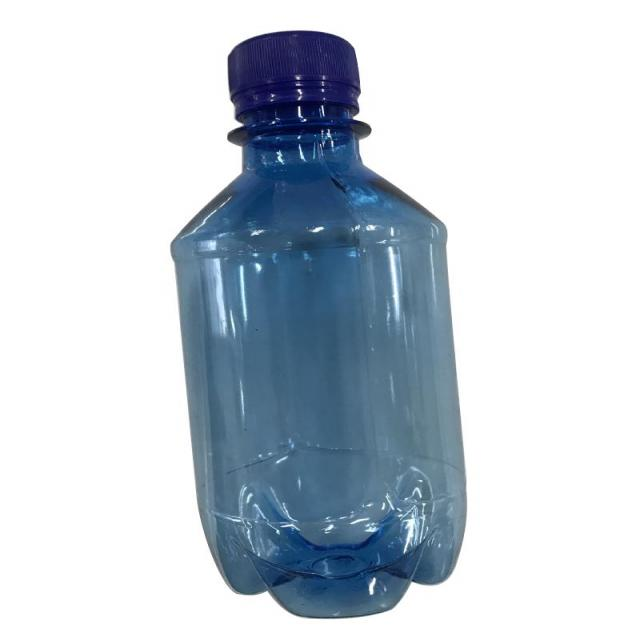bottle: (153, 26, 470, 640)
